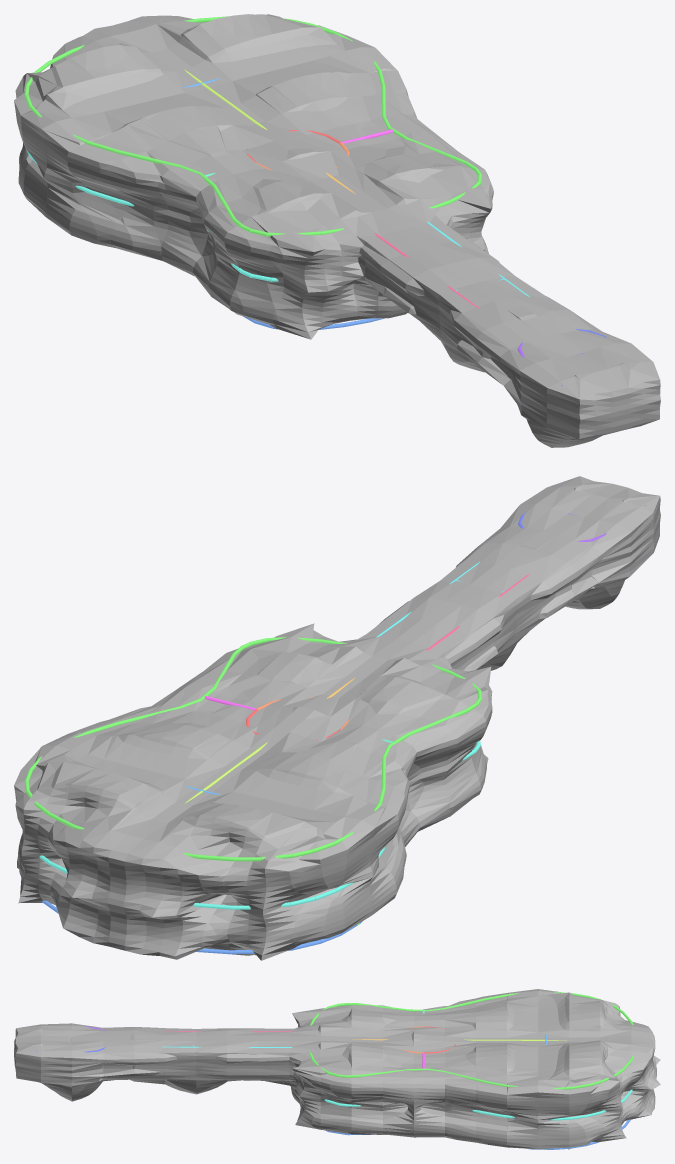
File: t2f_guitar.gltf
The picture shows the model from 3 angles, top to bottom: view 1: azimuth 30°, elevation 25°; view 2: azimuth 150°, elevation 25°; view 3: azimuth 270°, elevation 25°; orthographic projection. The views are drawn at different scales.
Size of the model in its own units: 0.3787 by 0.1466 by 1.
